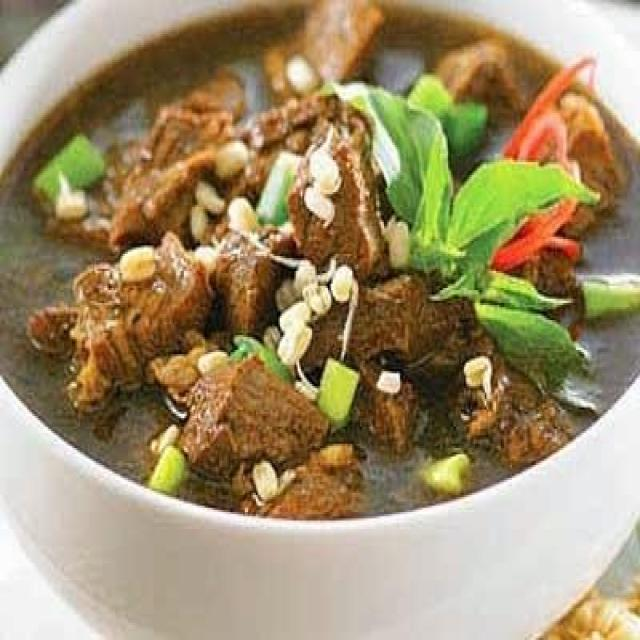Rawon: (6, 36, 624, 499)
